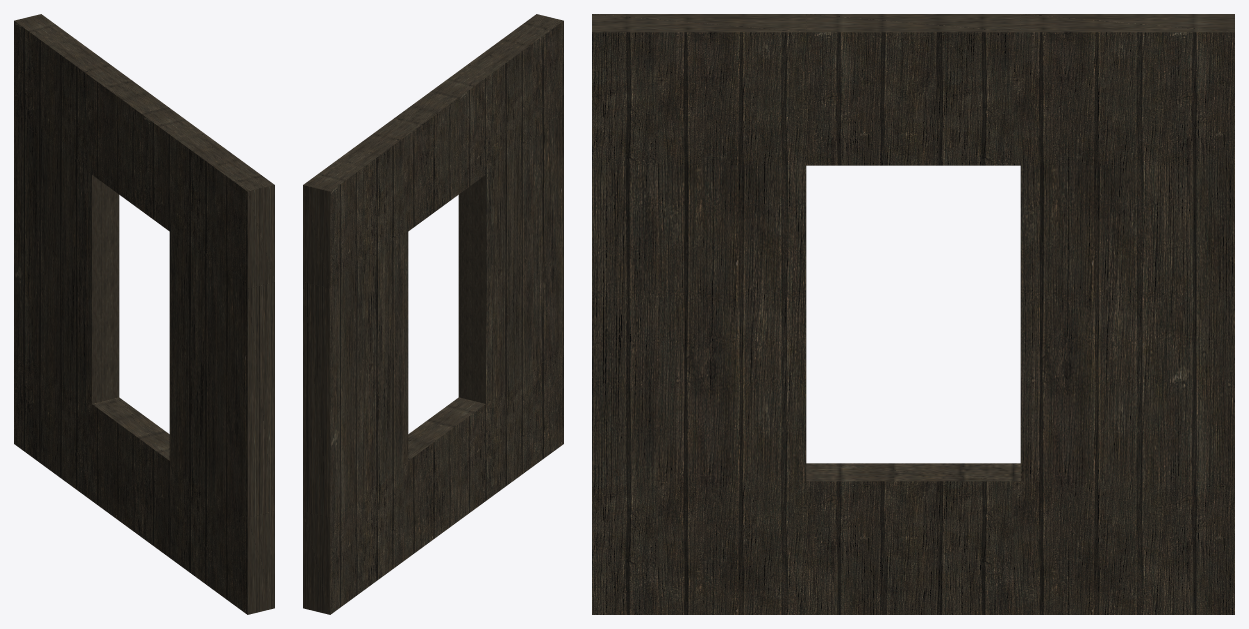
File: WoodenPlankWall(WindowHole) 1.fbx
The picture shows the model from 3 angles, left to right: view 1: azimuth 30°, elevation 25°; view 2: azimuth 150°, elevation 25°; view 3: azimuth 270°, elevation 25°; orthographic projection. The views are drawn at different scales.
Visible parts, largest first — view 1: Cube; view 2: Cube; view 3: Cube.
Part boxes in pixels (x1,y1,x2,y2): Cube: (14,14,274,614); Cube: (303,14,563,614); Cube: (592,14,1234,614).
Bounding box in the file's own units: 20.19 × 300 × 300.
1 material, 1 textured.
